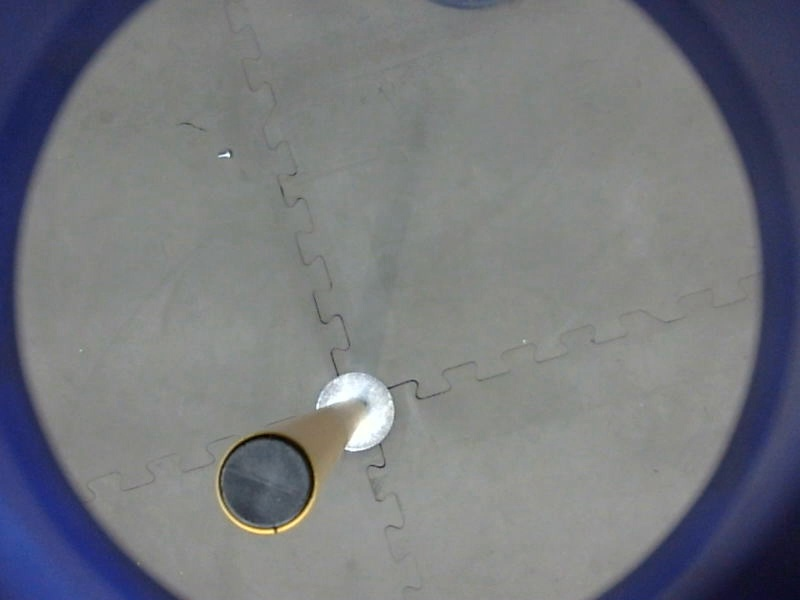tip: (208, 424, 322, 541)
